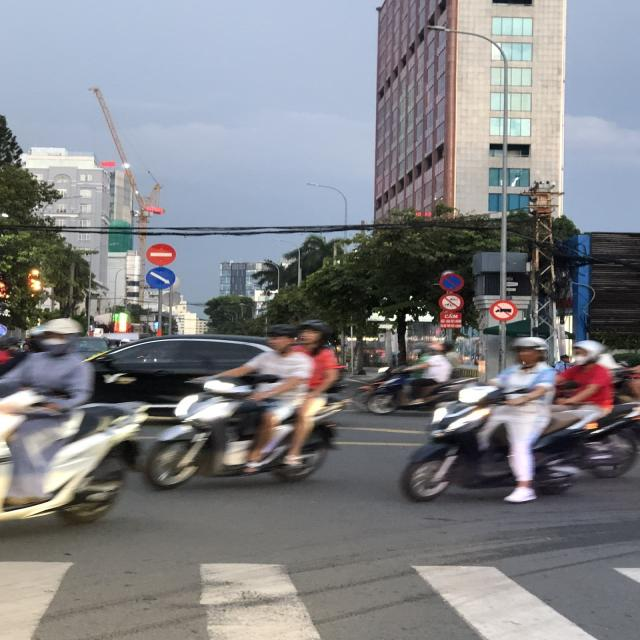Bien bao cam di nguoc chieu: (143, 242, 180, 267)
Bien bao cam do xe: (436, 270, 466, 294)
Bien bao cam xe so-mi ro-mooc: (488, 298, 518, 321)
Bien bao huong phai di vong chuong ngai vat: (144, 265, 176, 290)
